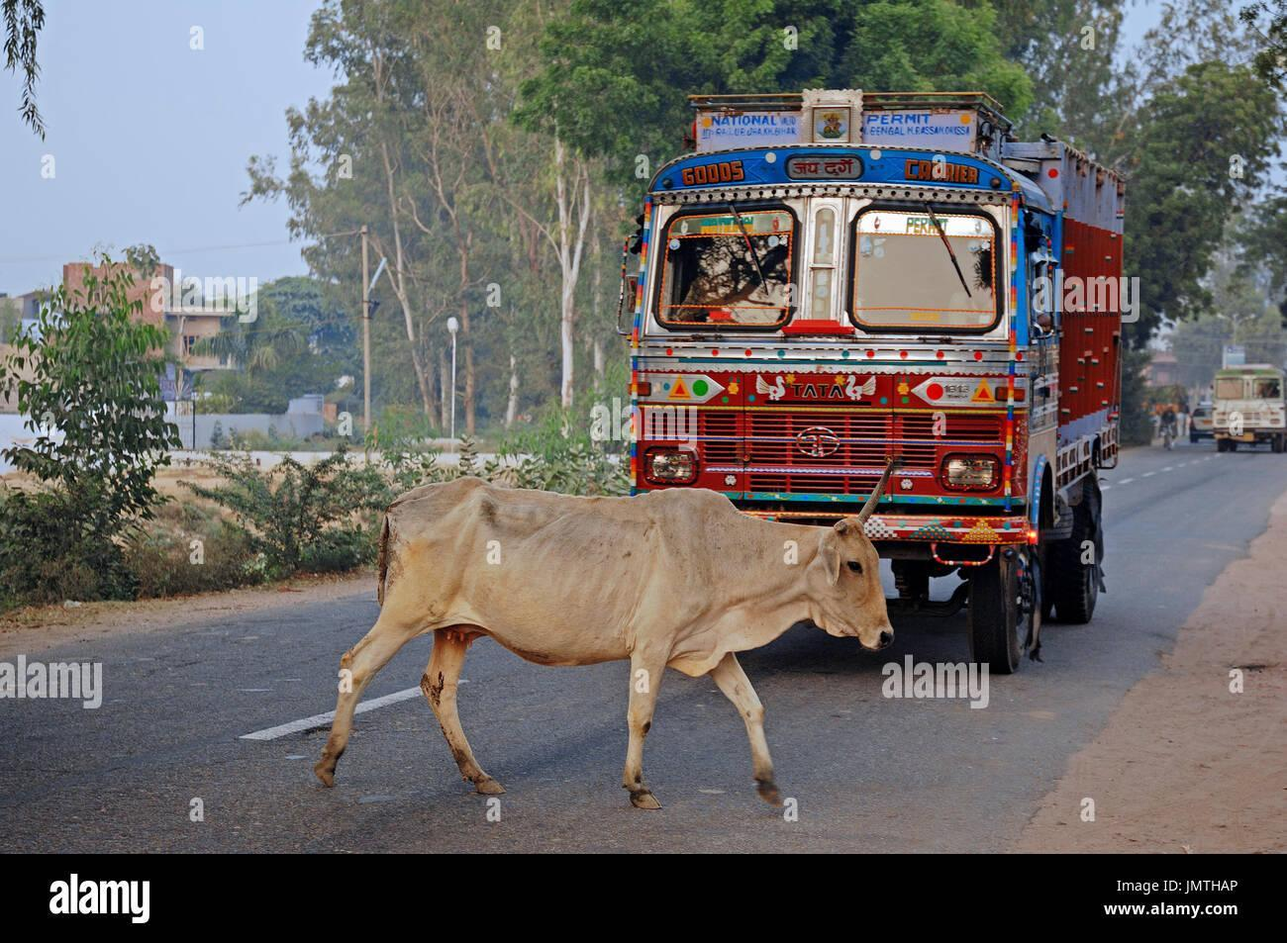truck: (615, 73, 1152, 481)
